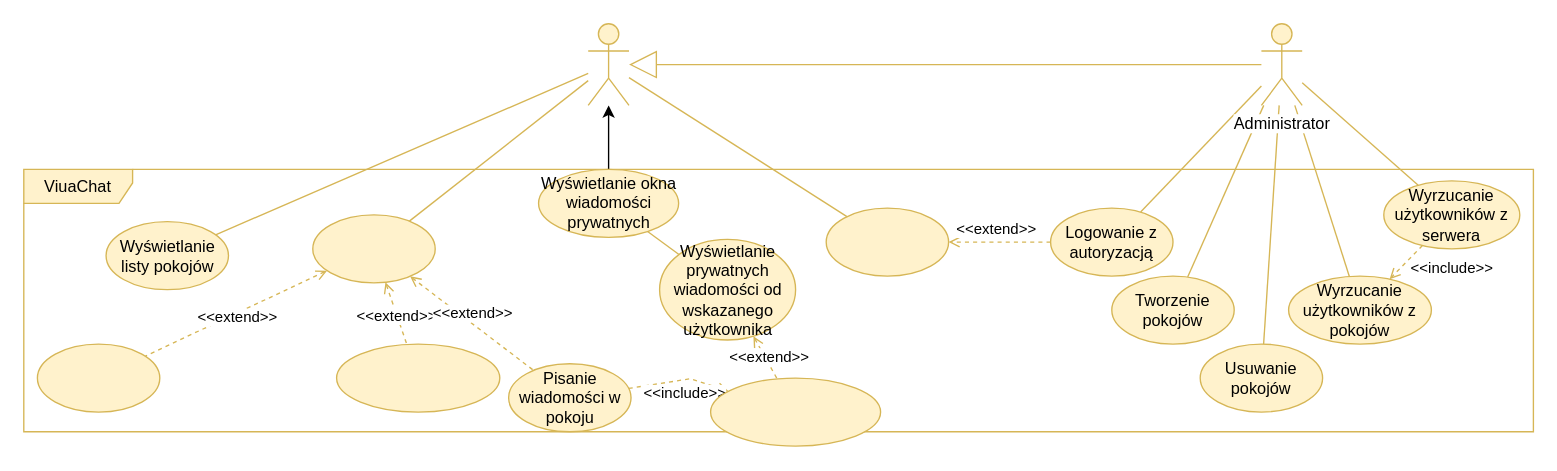
Image size: 1557x471. Some labels were removed from this diagram. Here are the shapes that lost their labels. From the top down, the centre of each, then its label:
the point at 608,63: Użytkownik czatu
the point at 373,248: Podpinianie się pod pokój
the point at 887,241: Logowanie anonimowe
the point at 98,377: Odpinanie się od pokoju
the point at 417,377: Wyświetlanie wiadomości w pokoju
the point at 795,411: Pisanie wiadomości prywatnych
